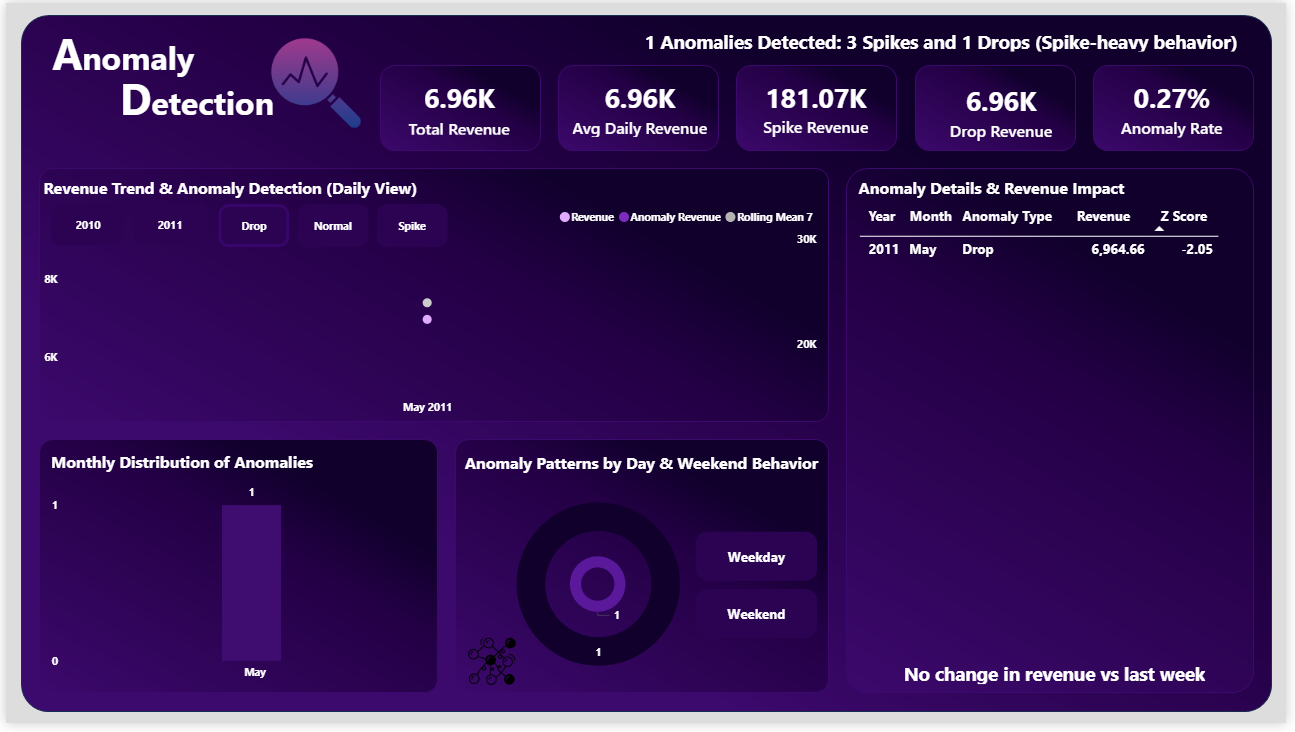

The dashboard page shown, as its layout file describes it:
{"tool":"powerbi","page":{"name":"Time-Series Analysis","canvas":[1280,720],"ordinal":0},"visuals":[{"type":"image","box":[448.8,633.8,73.8,48.8],"z":0},{"type":"lineChart","title":"Revenue Trend & Anomaly Detection (Daily View)","fields":{"Y":["Sum(daily_anomaly_data.Revenue)","daily_anomaly_data.Anomaly Revenue"],"Category":["Date_Dim.Date.Variation.Date Hierarchy.Year","Date_Dim.Date.Variation.Date Hierarchy.Month","Date_Dim.Date.Variation.Date Hierarchy.Day"],"Y2":["Sum(daily_anomaly_data.Rolling_Mean_7)"]},"box":[32.5,173.8,783.8,247.5],"z":1000},{"type":"advancedSlicerVisual","fields":{"Values":["Date_Dim.Year"]},"box":[40,196.2,167.5,51.2],"z":2000},{"type":"donutChart","fields":{"Y":["_Measueres.Total Anomalies"],"Category":["Date_Dim.Day Name"]},"box":[432.5,463.8,320,235],"z":3000},{"type":"cardVisual","fields":{"Data":["_Measueres.Total Revenue"]},"box":[371.4,64.3,164.3,85.7],"z":4000},{"type":"advancedSlicerVisual","fields":{"Values":["Date_Dim.Weekend_Label"]},"box":[685,523.8,131.2,117.5],"z":5000},{"type":"cardVisual","fields":{"Data":["_Measueres.Anomaly Insight"]},"box":[602.9,8.6,665.7,57.1],"z":6000},{"type":"advancedSlicerVisual","fields":{"Values":["daily_anomaly_data.Anomaly_Type"]},"box":[207.5,196.2,241.2,53.8],"z":7000},{"type":"cardVisual","fields":{"Data":["_Measueres.Avg Daily Revenue"]},"box":[535.7,60,195.7,91.4],"z":8000},{"type":"cardVisual","fields":{"Data":["daily_anomaly_data.Spike Revenue"]},"box":[725.7,57.1,167.1,95.7],"z":9000},{"type":"tableEx","title":"Anomaly Details & Revenue Impact ","fields":{"Values":["Date_Dim.Date.Variation.Date Hierarchy.Year","Date_Dim.Date.Variation.Date Hierarchy.Month","daily_anomaly_data.Anomaly_Type","Sum(daily_anomaly_data.Revenue)","Sum(daily_anomaly_data.Z_Score)"]},"box":[847.1,174.3,401.4,508.6],"z":10000},{"type":"columnChart","title":"Monthly Distribution of Anomalies","fields":{"Y":["_Measueres.Total Anomalies"],"Category":["Date_Dim.Month"]},"box":[40,447.1,401.4,238.6],"z":11000},{"type":"cardVisual","fields":{"Data":["_Measueres.Anomaly Rate"]},"box":[1084.3,55.7,164.3,98.6],"z":12000},{"type":"cardVisual","fields":{"Data":["daily_anomaly_data.Drop Revenue"]},"box":[912.9,61.4,165.7,94.3],"z":13000},{"type":"donutChart","fields":{"Category":["Date_Dim.Weekend_Label"],"Y":["_Measueres.Total Anomalies"]},"box":[538.8,536.2,106.2,90],"z":14000},{"type":"cardVisual","fields":{"Data":["_Measueres.Revenue WoW Insight"]},"box":[840,641.4,417.1,57.1],"z":15000},{"type":"textbox","box":[454.3,444.3,378.6,38.6],"z":16000},{"type":"textbox","box":[41.2,16.2,172.5,67.5],"z":17000},{"type":"textbox","box":[108.8,61.2,180,71.2],"z":18000},{"type":"image","box":[255,30,108.8,100],"z":19000}]}

Visuals, with their boxes in screenshot pixels (x1, y1, x2, y2), scaled from the page's 1280x720 canvas onto the 1295x732 screenshot:
image: {"left": 454, "top": 644, "right": 529, "bottom": 694}
"Revenue Trend & Anomaly Detection (Daily View)" lineChart: {"left": 33, "top": 177, "right": 826, "bottom": 428}
advancedSlicerVisual - Date_Dim.Year: {"left": 40, "top": 199, "right": 210, "bottom": 252}
donutChart - _Measueres.Total Anomalies x Date_Dim.Day Name: {"left": 438, "top": 472, "right": 761, "bottom": 710}
cardVisual - _Measueres.Total Revenue: {"left": 376, "top": 65, "right": 542, "bottom": 152}
advancedSlicerVisual - Date_Dim.Weekend_Label: {"left": 693, "top": 533, "right": 826, "bottom": 652}
cardVisual - _Measueres.Anomaly Insight: {"left": 610, "top": 9, "right": 1283, "bottom": 67}
advancedSlicerVisual - daily_anomaly_data.Anomaly_Type: {"left": 210, "top": 199, "right": 454, "bottom": 254}
cardVisual - _Measueres.Avg Daily Revenue: {"left": 542, "top": 61, "right": 740, "bottom": 154}
cardVisual - daily_anomaly_data.Spike Revenue: {"left": 734, "top": 58, "right": 903, "bottom": 155}
"Anomaly Details & Revenue Impact " tableEx: {"left": 857, "top": 177, "right": 1263, "bottom": 694}
"Monthly Distribution of Anomalies" columnChart: {"left": 40, "top": 455, "right": 447, "bottom": 697}
cardVisual - _Measueres.Anomaly Rate: {"left": 1097, "top": 57, "right": 1263, "bottom": 157}
cardVisual - daily_anomaly_data.Drop Revenue: {"left": 924, "top": 62, "right": 1091, "bottom": 158}
donutChart - Date_Dim.Weekend_Label x _Measueres.Total Anomalies: {"left": 545, "top": 545, "right": 653, "bottom": 637}
cardVisual - _Measueres.Revenue WoW Insight: {"left": 850, "top": 652, "right": 1272, "bottom": 710}
textbox: {"left": 460, "top": 452, "right": 843, "bottom": 491}
textbox: {"left": 42, "top": 16, "right": 216, "bottom": 85}
textbox: {"left": 110, "top": 62, "right": 292, "bottom": 135}
image: {"left": 258, "top": 30, "right": 368, "bottom": 132}
